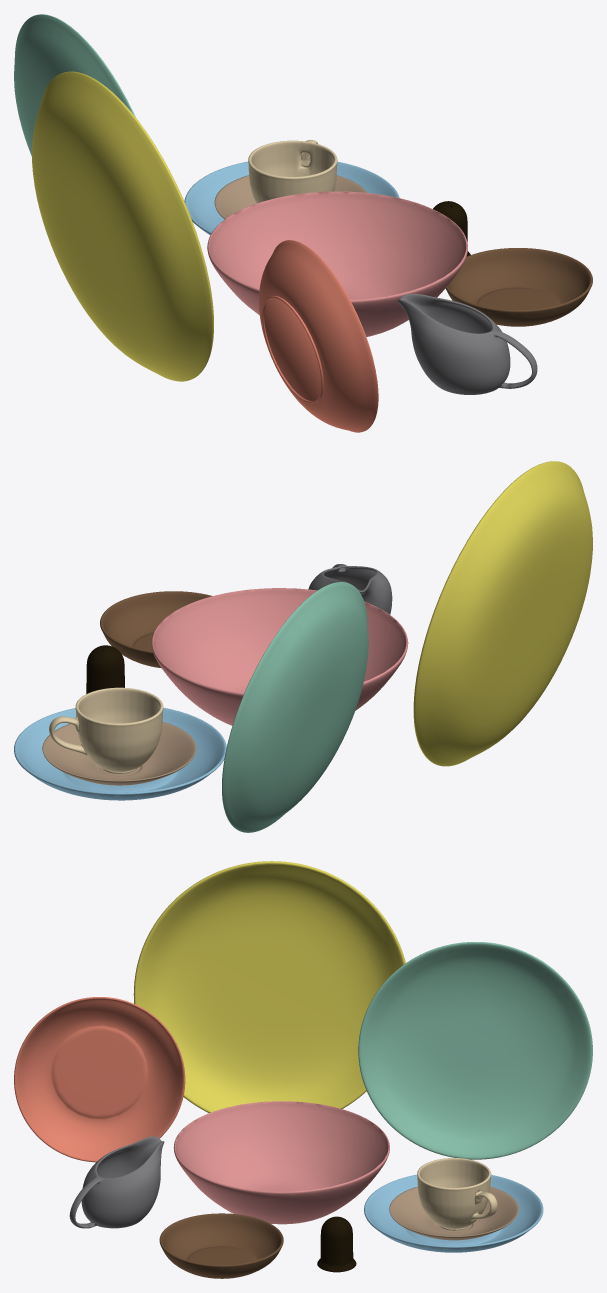
Rendered from 33-pcs-gray.glb.
3 renders of one model, top to bottom at view 1: azimuth 30°, elevation 25°; view 2: azimuth 150°, elevation 25°; view 3: azimuth 270°, elevation 25°, orthographic. The views are drawn at different scales.
Visible parts, largest first — view 1: Circle.006, Circle, Circle.003, Circle.002, Cylinder.007, Circle.005, CUP, Circle.004, NAALBAKI, Salt Shaker 0; view 2: Circle.006, Circle.005, Circle, CUP, Circle.004, NAALBAKI, Circle.002, Cylinder.007, Salt Shaker 0; view 3: Circle.006, Circle.005, Circle.003, Circle, Circle.002, Cylinder.007, Circle.004, CUP, NAALBAKI, Salt Shaker 0.
Boxes of the visible parts, x1,y1,x2,y2 form: Circle.006: (32, 71, 213, 381); Circle: (207, 191, 467, 336); Circle.003: (259, 240, 378, 432); Circle.002: (445, 248, 592, 326); Cylinder.007: (397, 294, 537, 394); Circle.005: (14, 14, 135, 156); CUP: (248, 139, 337, 203); Circle.004: (184, 161, 399, 235); NAALBAKI: (214, 175, 367, 219); Salt Shaker 0: (433, 201, 470, 256); Circle.006: (413, 461, 592, 766); Circle.005: (222, 582, 368, 832); Circle: (151, 588, 408, 725); CUP: (49, 687, 163, 773); Circle.004: (14, 707, 226, 800); NAALBAKI: (42, 722, 196, 785); Circle.002: (100, 591, 212, 668); Cylinder.007: (308, 564, 392, 614); Salt Shaker 0: (86, 645, 124, 693); Circle.006: (133, 861, 405, 1112); Circle.005: (358, 942, 592, 1159); Circle.003: (14, 997, 185, 1162); Circle: (173, 1101, 389, 1224); Circle.002: (159, 1213, 283, 1278); Cylinder.007: (69, 1136, 164, 1228); Circle.004: (364, 1174, 543, 1252); CUP: (417, 1158, 497, 1230); NAALBAKI: (389, 1186, 518, 1240); Salt Shaker 0: (317, 1216, 356, 1272).
Bounding box in the file's own units: 0.4933 × 0.2959 × 0.6292.
